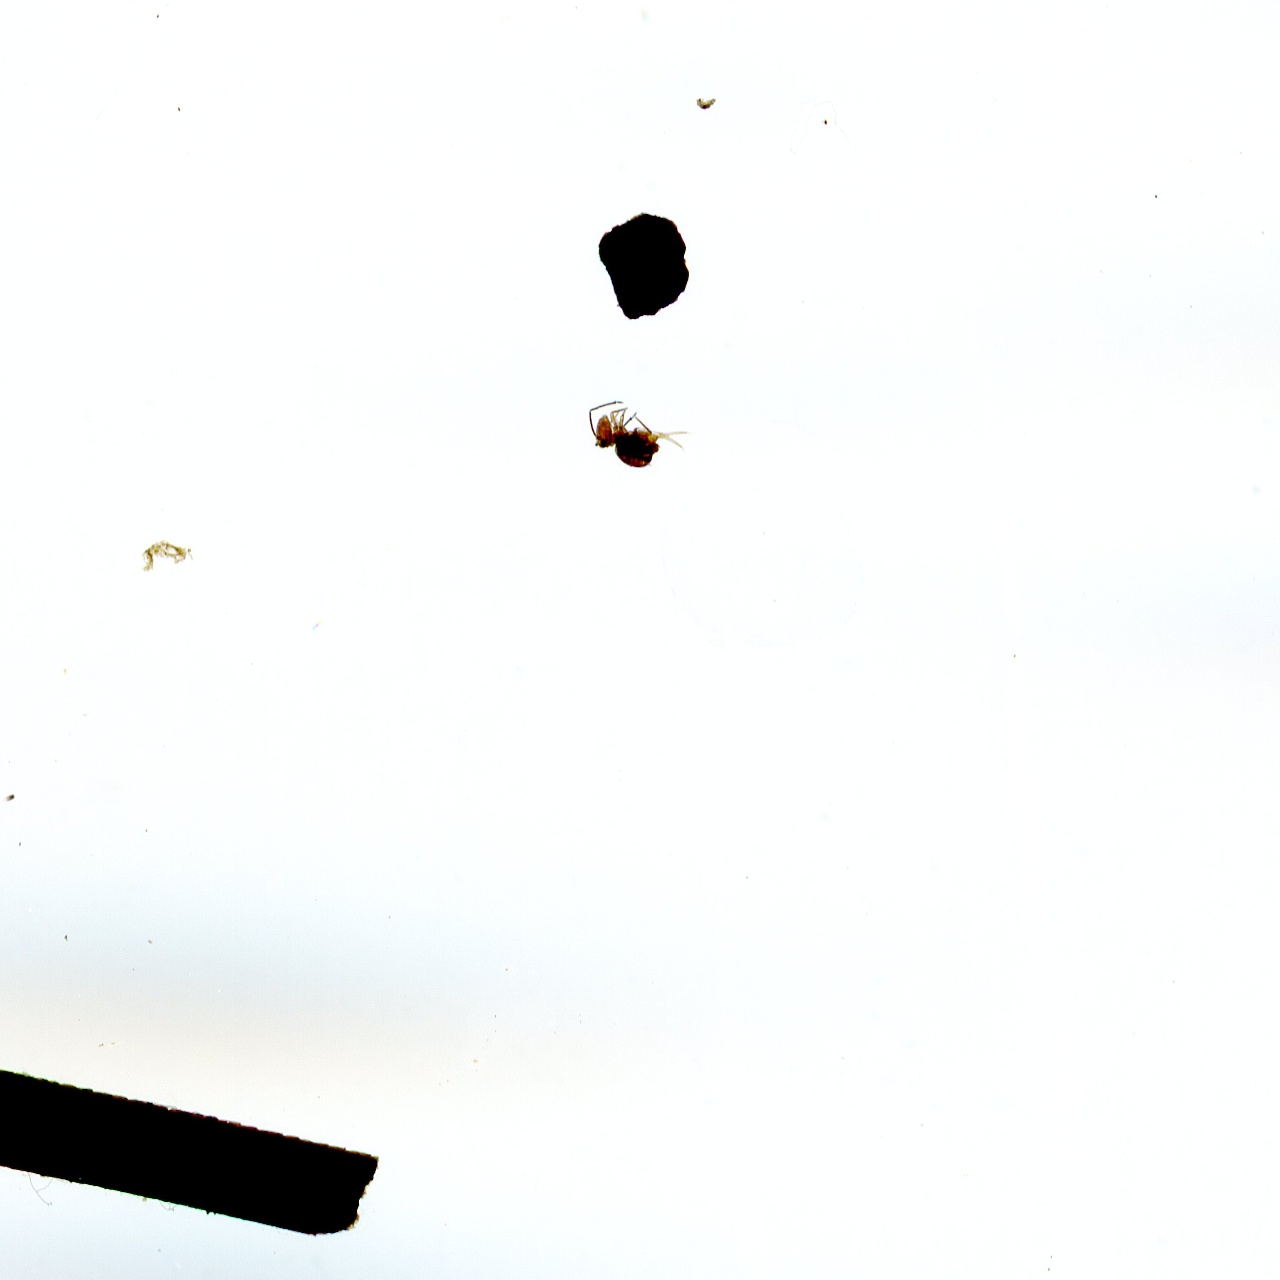arthropod: (568, 389, 703, 482)
